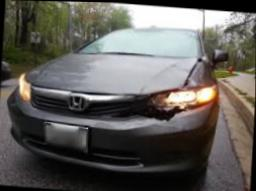Bumper: (91, 98, 213, 140)
Light: (150, 83, 215, 107)
